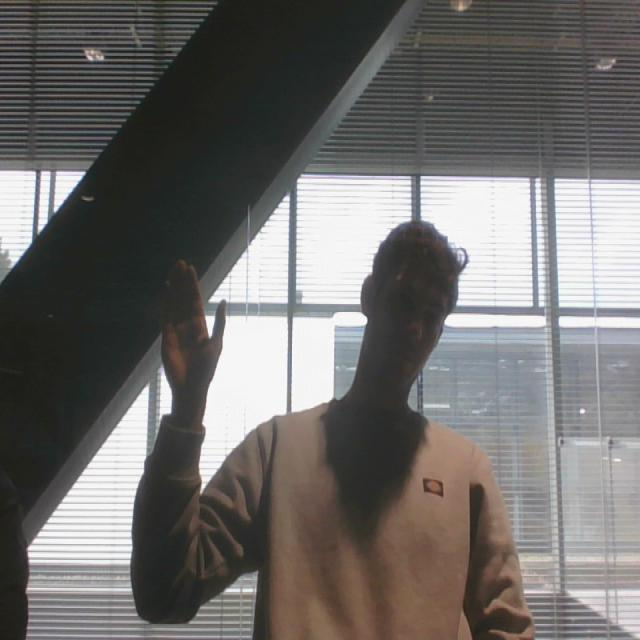backward: (152, 258, 232, 412)
